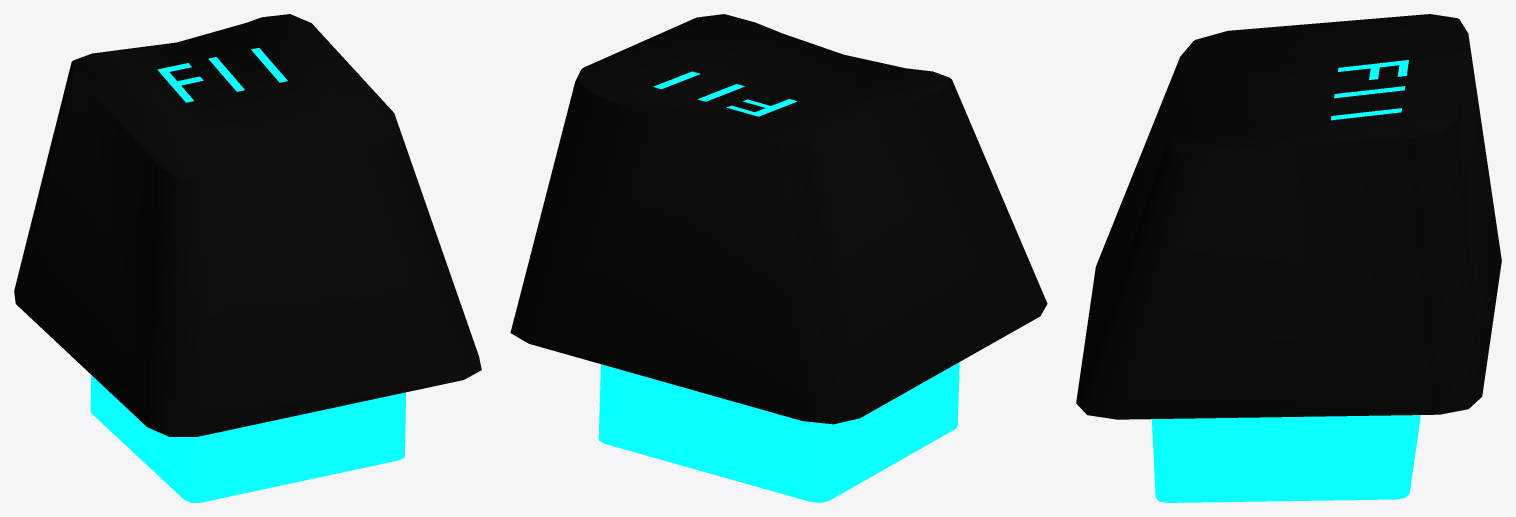
Rendered from f11-0iFdKrmT.glb.
The picture shows the model from 3 angles, left to right: view 1: azimuth 30°, elevation 25°; view 2: azimuth 150°, elevation 25°; view 3: azimuth 270°, elevation 25°; orthographic projection. The views are drawn at different scales.
Visible parts, largest first — view 1: StudyShelf_1101; view 2: StudyShelf_1101; view 3: StudyShelf_1101.
Part boxes in pixels (left/top/right/bottom): StudyShelf_1101: left=14, top=14, right=481, bottom=502; StudyShelf_1101: left=510, top=14, right=1047, bottom=502; StudyShelf_1101: left=1076, top=14, right=1501, bottom=502.
Bounding box in the file's own units: 4.35 × 4.28 × 4.35.
